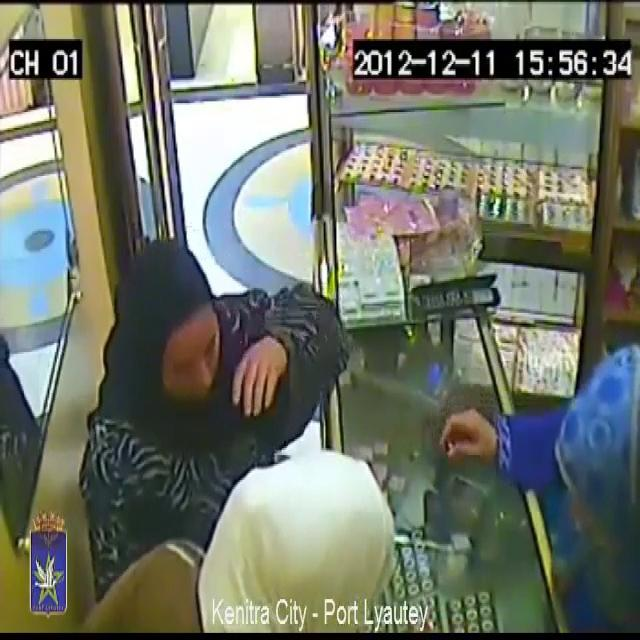Product: (442, 420, 458, 464)
normal: (159, 399, 391, 640), (131, 194, 249, 410)
shoplifting: (421, 182, 640, 627)
